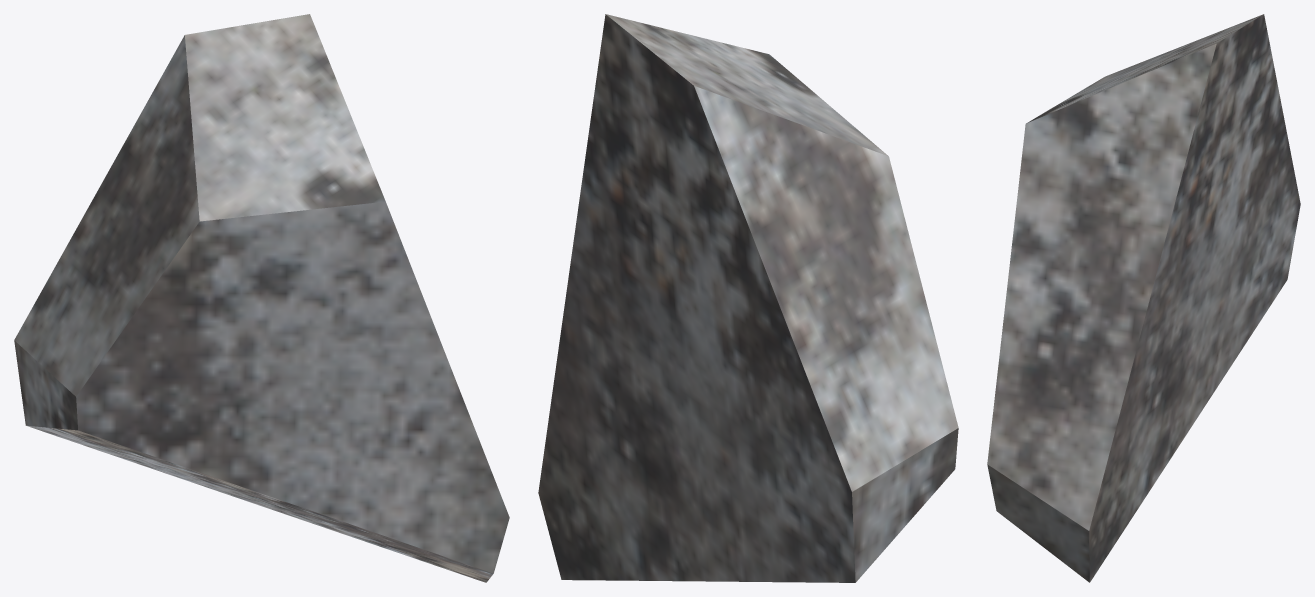
File: Asteroid_Large_001_02_009_03_019.fbx
3 views of the same model, side by side, from view 1: azimuth 30°, elevation 25°; view 2: azimuth 150°, elevation 25°; view 3: azimuth 270°, elevation 25° (orthographic). The views are drawn at different scales.
Visible parts, largest first — view 1: Asteroid_Large_001_02_009_03_019; view 2: Asteroid_Large_001_02_009_03_019; view 3: Asteroid_Large_001_02_009_03_019.
Boxes of the visible parts, x1,y1,x2,y2 form: Asteroid_Large_001_02_009_03_019: (14,14,509,582); Asteroid_Large_001_02_009_03_019: (538,14,958,582); Asteroid_Large_001_02_009_03_019: (987,14,1300,582).
Bounding box in the file's own units: 3.44 × 4.6 × 2.66.
